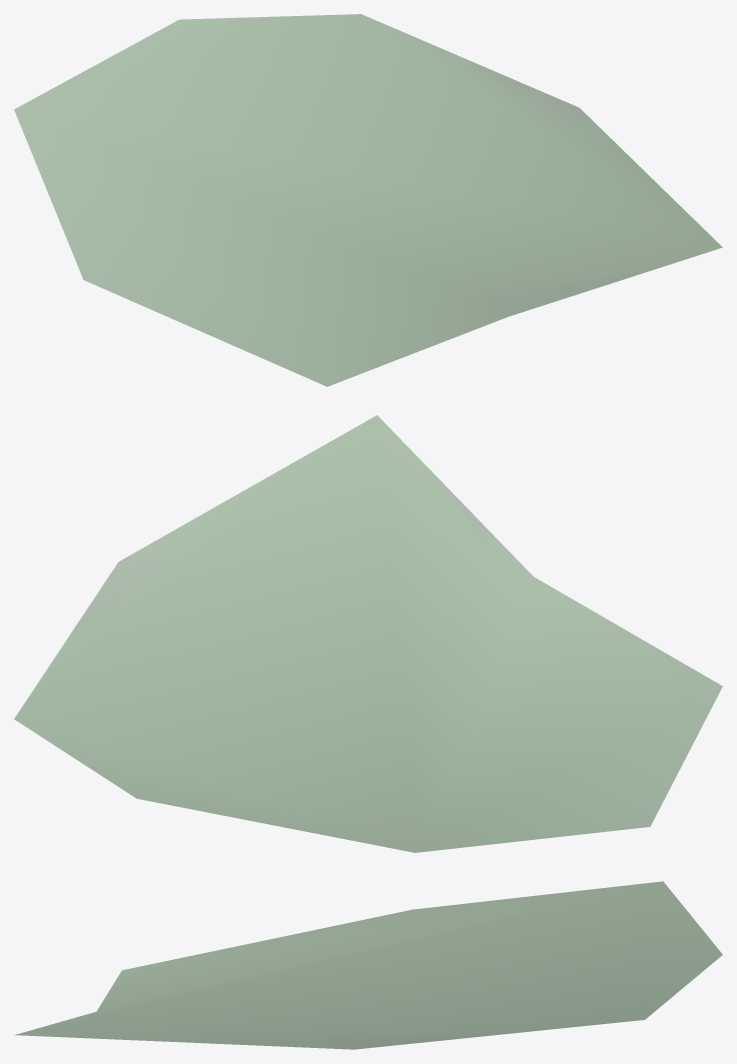
The model's file is TROLLHOLE02_HOLECAP61.fbx.
3 renders of one model, top to bottom at view 1: azimuth 30°, elevation 25°; view 2: azimuth 150°, elevation 25°; view 3: azimuth 270°, elevation 25°, orthographic. The views are drawn at different scales.
Visible parts, largest first — view 1: TROLLHOLE02_HOLECAP61; view 2: TROLLHOLE02_HOLECAP61; view 3: TROLLHOLE02_HOLECAP61.
Part boxes in pixels (left/top/right/bottom): TROLLHOLE02_HOLECAP61: left=14, top=14, right=722, bottom=386; TROLLHOLE02_HOLECAP61: left=14, top=415, right=722, bottom=852; TROLLHOLE02_HOLECAP61: left=14, top=881, right=722, bottom=1049.
Bounding box in the file's own units: 13215 × 2695 × 18199.
1 material, 1 textured.
